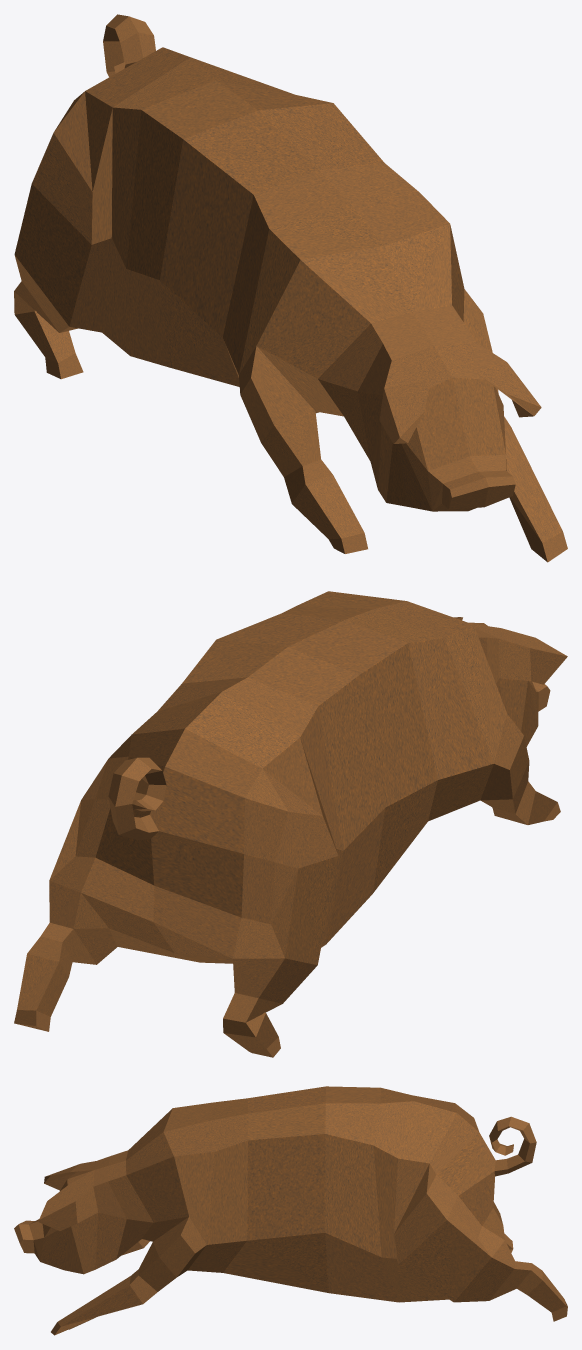
File: Pig_000013.obj
3 renders of one model, top to bottom at view 1: azimuth 30°, elevation 25°; view 2: azimuth 150°, elevation 25°; view 3: azimuth 270°, elevation 25°, orthographic. The views are drawn at different scales.
Parts seen in each view (by area): view 1: Pig_Cylinder; view 2: Pig_Cylinder; view 3: Pig_Cylinder.
Part boxes in pixels (left/top/right/bottom): Pig_Cylinder: left=14, top=14, right=567, bottom=562; Pig_Cylinder: left=14, top=591, right=567, bottom=1057; Pig_Cylinder: left=14, top=1086, right=567, bottom=1335.
Bounding box in the file's own units: 3.41 × 4.27 × 10.13.
1 material, 1 textured.
